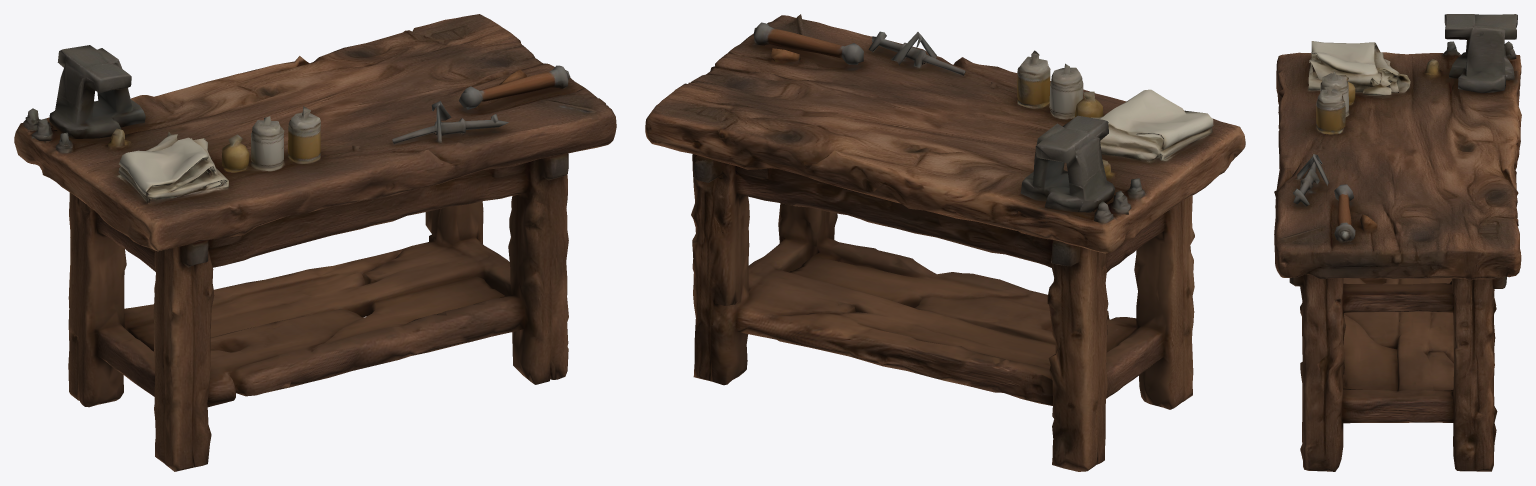
File: workbench.glb
3 views of the same model, side by side, from view 1: azimuth 30°, elevation 25°; view 2: azimuth 150°, elevation 25°; view 3: azimuth 270°, elevation 25° (orthographic). The views are drawn at different scales.
Parts seen in each view (by area): view 1: tripo_node_282a4a44-fb20-423c-9190-cd0fc565aa64; view 2: tripo_node_282a4a44-fb20-423c-9190-cd0fc565aa64; view 3: tripo_node_282a4a44-fb20-423c-9190-cd0fc565aa64.
Boxes of the visible parts, box(x1,y1,x2,y2) form: tripo_node_282a4a44-fb20-423c-9190-cd0fc565aa64: box(14, 14, 616, 471); tripo_node_282a4a44-fb20-423c-9190-cd0fc565aa64: box(645, 14, 1245, 471); tripo_node_282a4a44-fb20-423c-9190-cd0fc565aa64: box(1274, 14, 1521, 471).
Bounding box in the file's own units: 1 × 0.6774 × 0.5199.
1 material, 1 textured.
